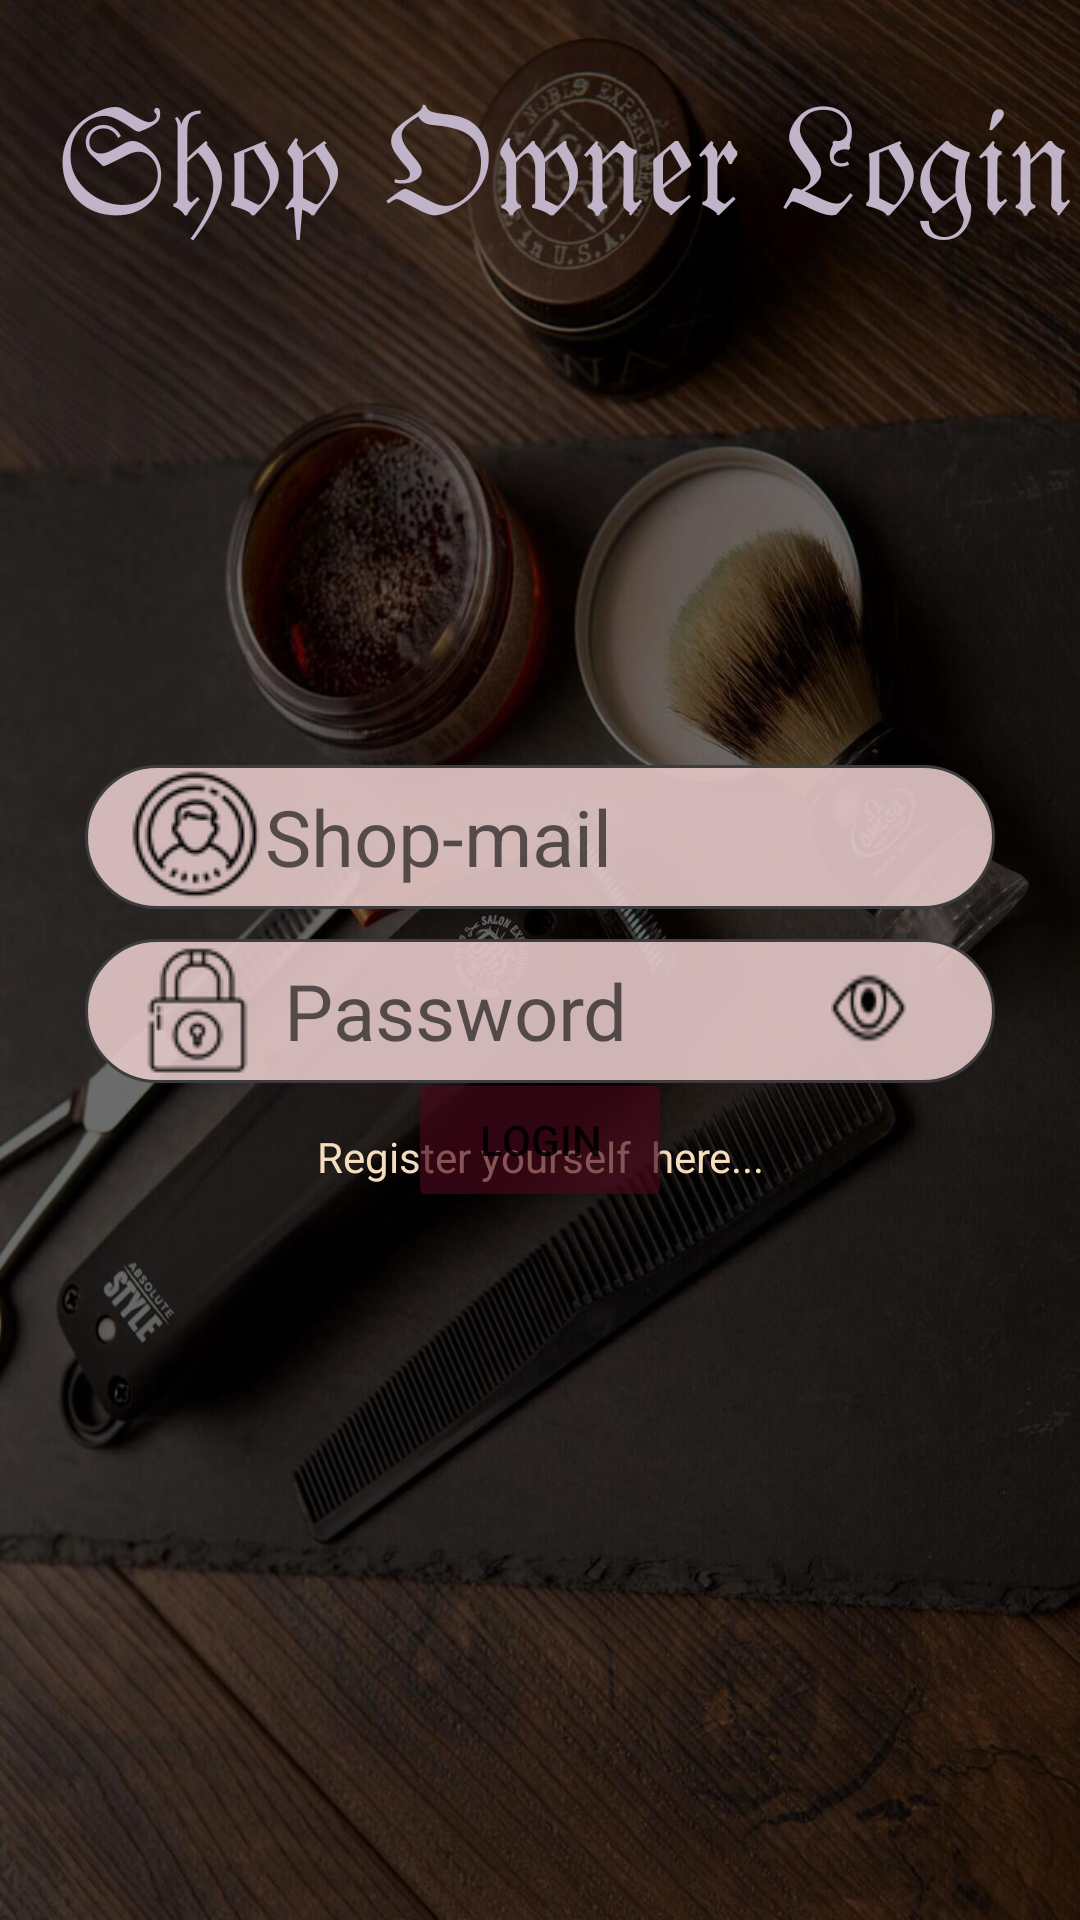

Locate icon controls on the screen. Image size 1080*1920, boxes as (x1, y1, x2, y2).
eyeicon: (831, 975, 906, 1042)
